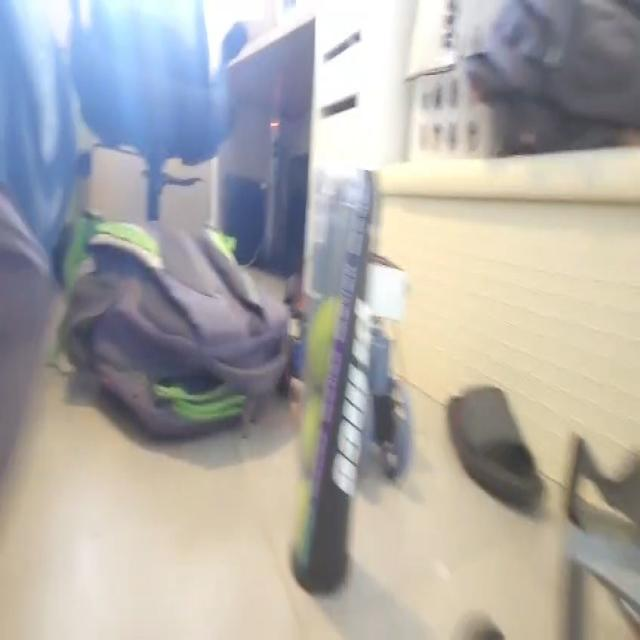Robot: (361, 255, 414, 483)
